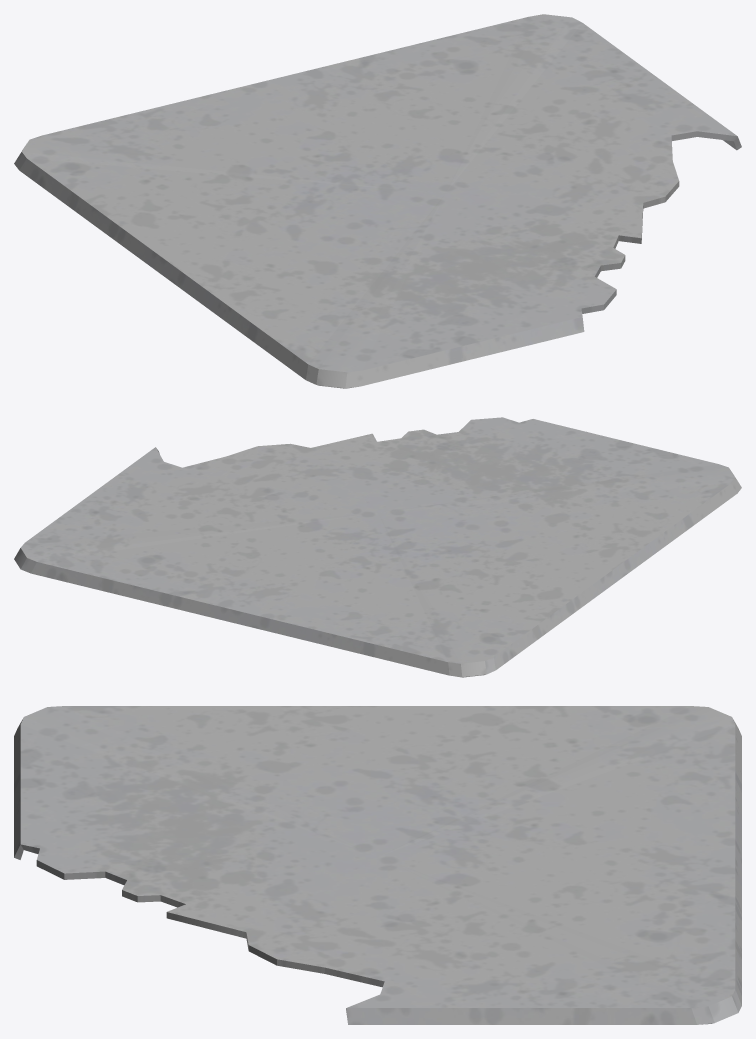
File: Cover_Box_Of_Water_02 Broken.fbx
3 views of the same model, one above another, from view 1: azimuth 30°, elevation 25°; view 2: azimuth 150°, elevation 25°; view 3: azimuth 270°, elevation 25° (orthographic). The views are drawn at different scales.
Visible parts, largest first — view 1: Cover_Box_Of_Water_02 Broken; view 2: Cover_Box_Of_Water_02 Broken; view 3: Cover_Box_Of_Water_02 Broken.
Part boxes in pixels (x1,y1,x2,y2): Cover_Box_Of_Water_02 Broken: [14, 14, 741, 388]; Cover_Box_Of_Water_02 Broken: [14, 417, 741, 677]; Cover_Box_Of_Water_02 Broken: [14, 706, 741, 1024].
Size of the model in its own units: 206 by 5.37 by 206.
